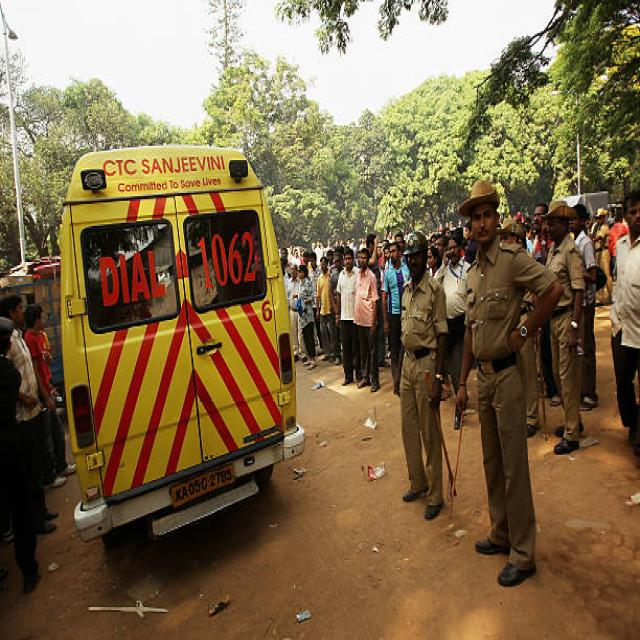ambulance: (57, 133, 302, 533)
